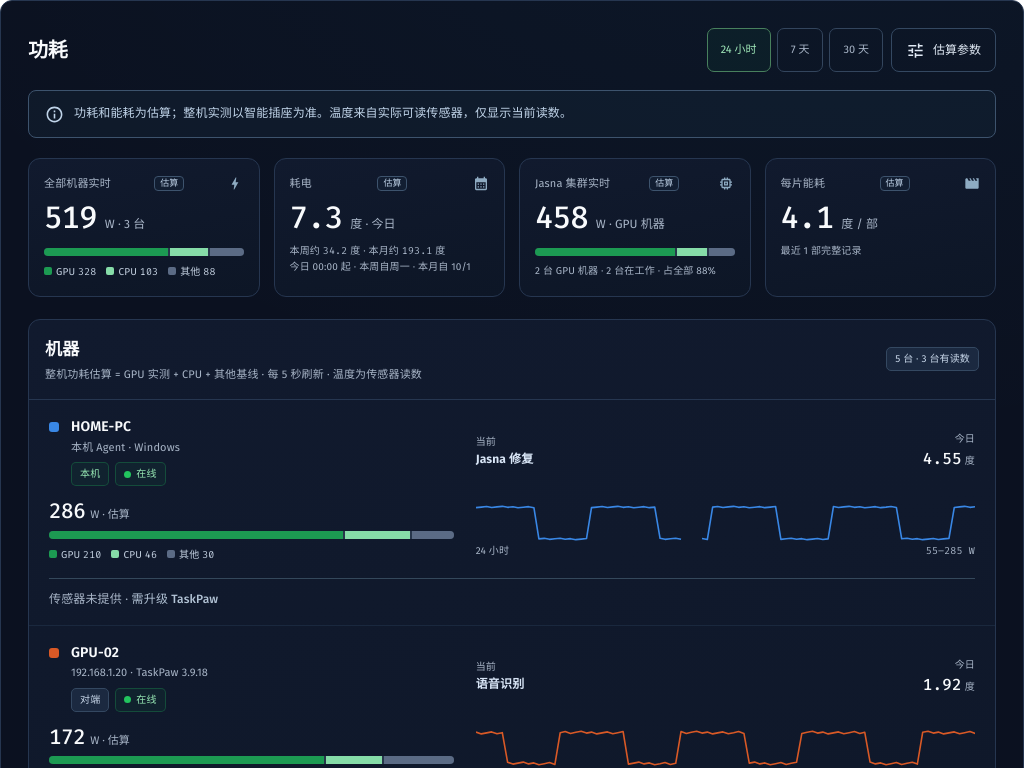
Test: 功耗 tab › switches the range: the chart, the selected energy column and the activity totals follow
Click the button "7 天". click: (800,50)
box: [777,28,823,72]
(page scrolled)
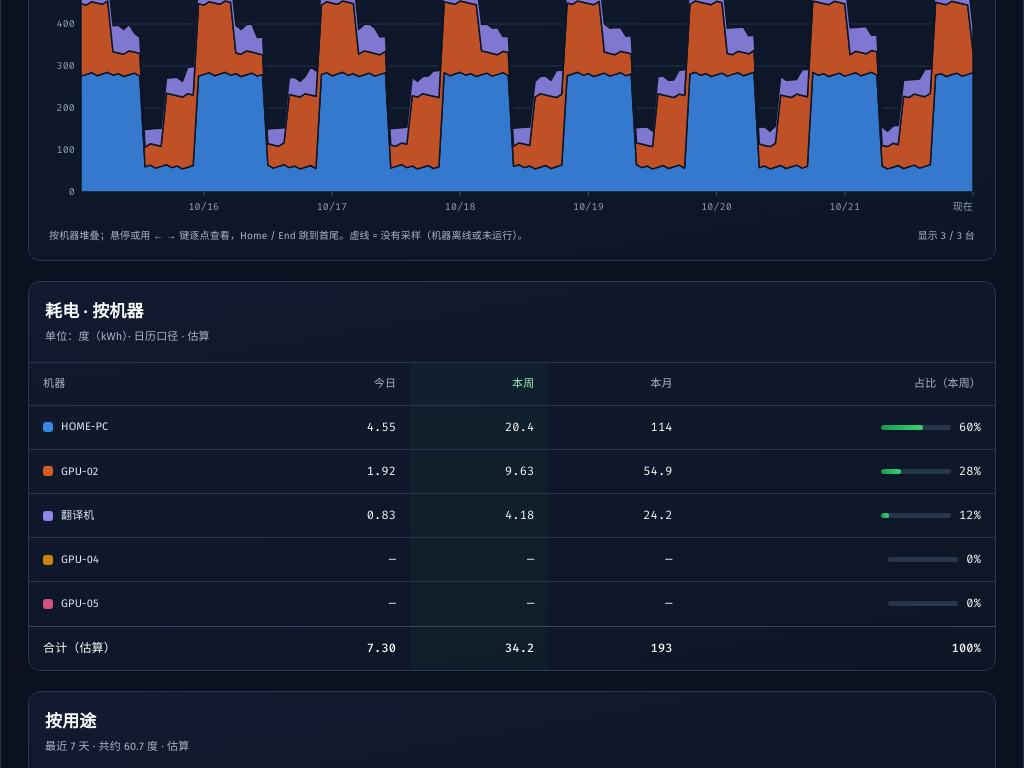
Now the text "最近 7 天 · 共约 60.7 度 · 估算" is shown, box [45,738,189,756]
Now the column heading "占比（本周）" is shown, box [687,363,995,405]
